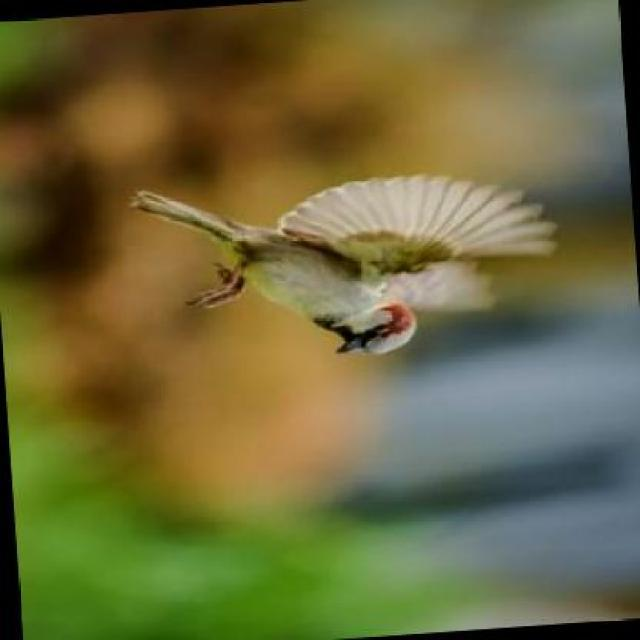Bird: (107, 155, 598, 384)
